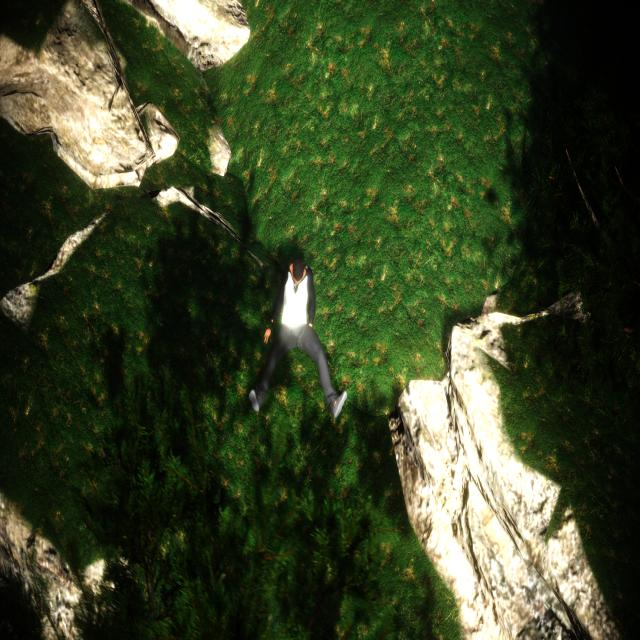Human: (241, 255, 352, 444)
